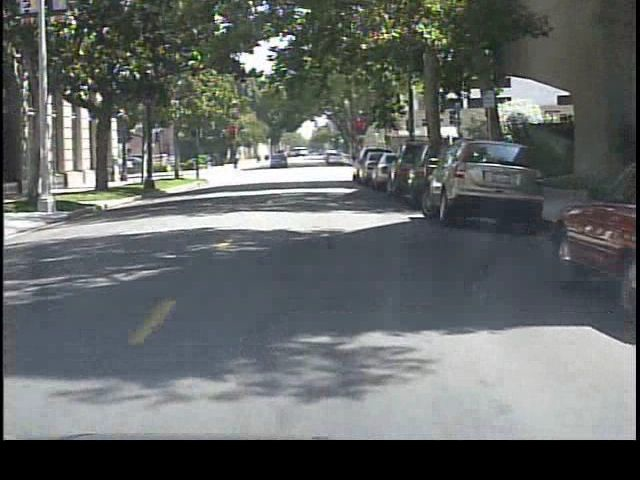person: (231, 144, 242, 169)
